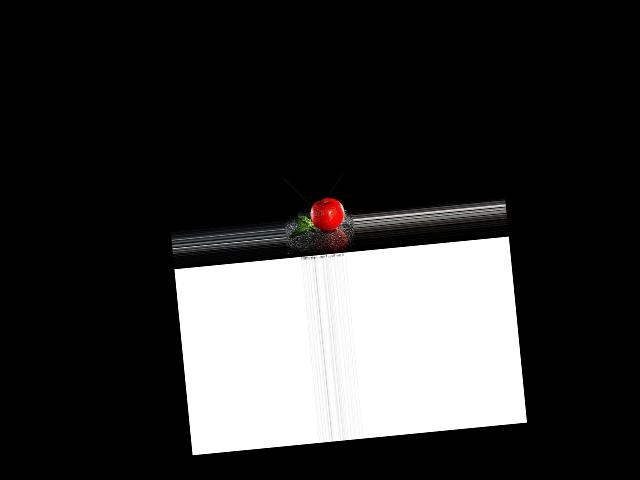tomato: (308, 196, 345, 231)
